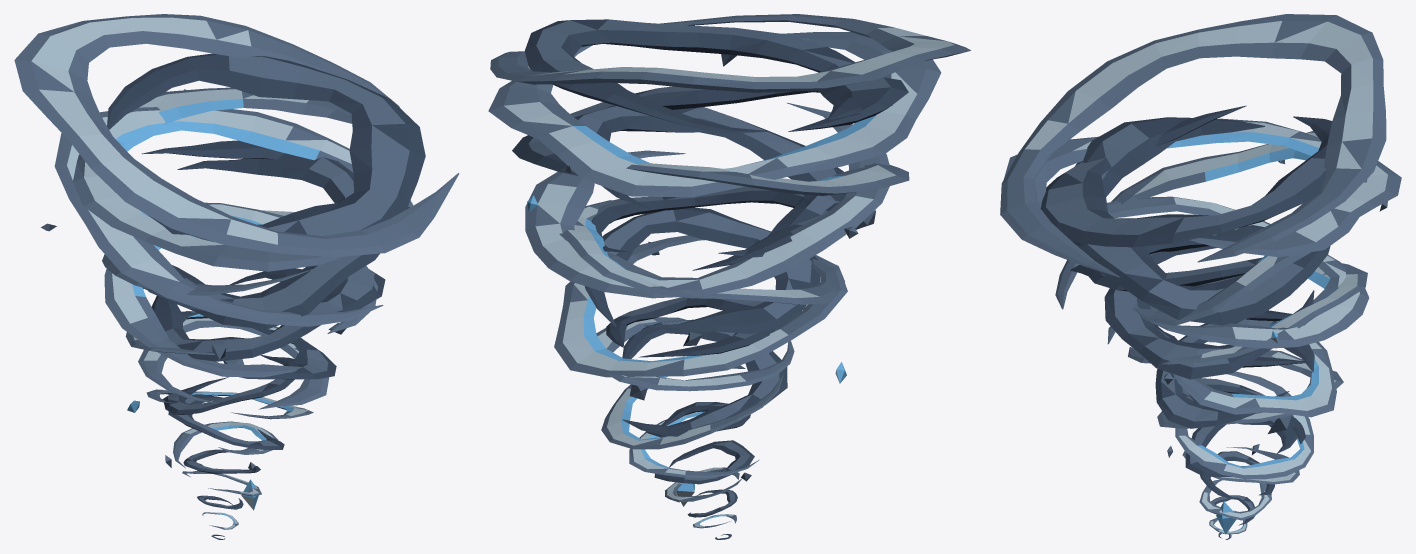
The model's file is Tornado.glb.
The picture shows the model from 3 angles, left to right: view 1: azimuth 30°, elevation 25°; view 2: azimuth 150°, elevation 25°; view 3: azimuth 270°, elevation 25°; orthographic projection. The views are drawn at different scales.
Visible parts, largest first — view 1: Wind_Ribbon_22, Wind_Ribbon_21, Wind_Ribbon_18, Wind_Ribbon_20, Wind_Ribbon_17, Wind_Ribbon_14.001, Wind_Ribbon_13.001, Wind_Ribbon_10.002, Wind_Ribbon_11.001, Wind_Ribbon_15.001, Wind_Ribbon_09.002, Wind_Ribbon_19 (+6 smaller); view 2: Wind_Ribbon_20, Wind_Ribbon_16.001, Wind_Ribbon_21, Wind_Ribbon_22, Wind_Ribbon_12.001, Wind_Ribbon_13.001, Wind_Ribbon_17, Wind_Ribbon_19, Wind_Ribbon_14.001, Wind_Ribbon_15.001, Wind_Ribbon_18, Wind_Ribbon_09.002 (+7 smaller); view 3: Wind_Ribbon_22, Wind_Ribbon_21, Wind_Ribbon_19, Wind_Ribbon_20, Wind_Ribbon_18, Wind_Ribbon_16.001, Wind_Ribbon_15.001, Wind_Ribbon_12.001, Wind_Ribbon_08.002, Wind_Ribbon_11.001, Wind_Ribbon_14.001, Wind_Ribbon_17 (+7 smaller).
Boxes of the visible parts, bbox=[...] form: Wind_Ribbon_22: bbox=[14, 14, 459, 257]; Wind_Ribbon_21: bbox=[107, 53, 425, 236]; Wind_Ribbon_18: bbox=[54, 107, 413, 326]; Wind_Ribbon_20: bbox=[73, 87, 352, 271]; Wind_Ribbon_17: bbox=[142, 153, 379, 329]; Wind_Ribbon_14.001: bbox=[104, 202, 377, 377]; Wind_Ribbon_13.001: bbox=[151, 268, 320, 361]; Wind_Ribbon_10.002: bbox=[138, 311, 329, 409]; Wind_Ribbon_11.001: bbox=[181, 311, 336, 379]; Wind_Ribbon_15.001: bbox=[146, 269, 385, 312]; Wind_Ribbon_09.002: bbox=[162, 355, 296, 414]; Wind_Ribbon_19: bbox=[141, 140, 409, 242]; Wind_Ribbon_20: bbox=[488, 32, 941, 197]; Wind_Ribbon_16.001: bbox=[525, 102, 889, 298]; Wind_Ribbon_21: bbox=[525, 19, 892, 133]; Wind_Ribbon_22: bbox=[490, 14, 970, 92]; Wind_Ribbon_12.001: bbox=[554, 235, 847, 377]; Wind_Ribbon_13.001: bbox=[584, 207, 820, 333]; Wind_Ribbon_17: bbox=[574, 105, 846, 257]; Wind_Ribbon_19: bbox=[512, 77, 908, 175]; Wind_Ribbon_14.001: bbox=[559, 200, 844, 304]; Wind_Ribbon_15.001: bbox=[591, 186, 840, 270]; Wind_Ribbon_18: bbox=[540, 141, 909, 195]; Wind_Ribbon_09.002: bbox=[622, 319, 787, 436]; Wind_Ribbon_22: bbox=[1000, 14, 1386, 277]; Wind_Ribbon_21: bbox=[1040, 105, 1332, 247]; Wind_Ribbon_19: bbox=[1075, 117, 1330, 325]; Wind_Ribbon_20: bbox=[1004, 118, 1401, 257]; Wind_Ribbon_18: bbox=[1055, 131, 1367, 325]; Wind_Ribbon_16.001: bbox=[1107, 196, 1369, 348]; Wind_Ribbon_15.001: bbox=[1104, 225, 1314, 379]; Wind_Ribbon_12.001: bbox=[1173, 321, 1336, 417]; Wind_Ribbon_08.002: bbox=[1175, 371, 1313, 479]; Wind_Ribbon_11.001: bbox=[1155, 319, 1314, 428]; Wind_Ribbon_14.001: bbox=[1107, 263, 1367, 364]; Wind_Ribbon_17: bbox=[1070, 235, 1261, 291].
Size of the model in its own units: 7.01 by 9.07 by 7.24.
